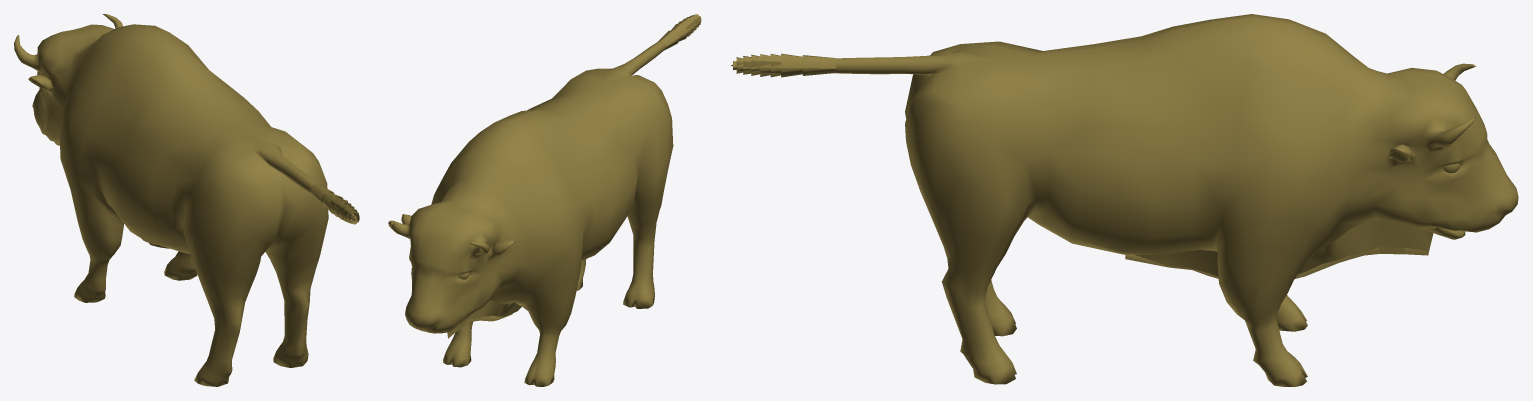
Rendered from wuson.obj.
3 renders of one model, left to right at view 1: azimuth 30°, elevation 25°; view 2: azimuth 150°, elevation 25°; view 3: azimuth 270°, elevation 25°, orthographic. The views are drawn at different scales.
Parts seen in each view (by area): view 1: wuson; view 2: wuson; view 3: wuson.
Part boxes in pixels (box(x1,y1,x2,y2)): wuson: box(14, 14, 359, 386); wuson: box(388, 14, 701, 386); wuson: box(731, 14, 1518, 386).
Size of the model in its own units: 0.92 by 1.52 by 3.24.
